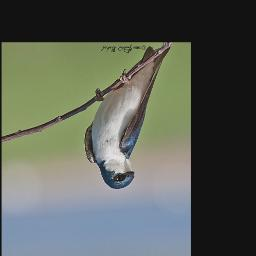Swallow: (84, 44, 171, 191)
